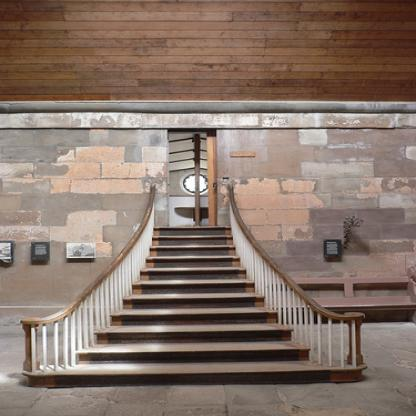stairs: (129, 301, 255, 390)
